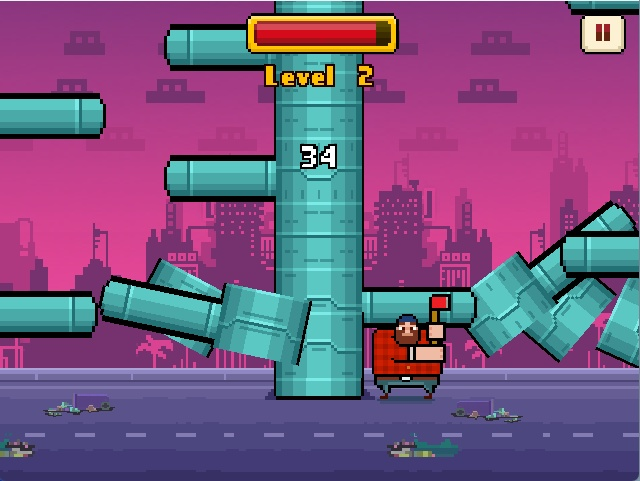left_obs: (154, 148, 284, 206)
timberman: (364, 290, 464, 405)
